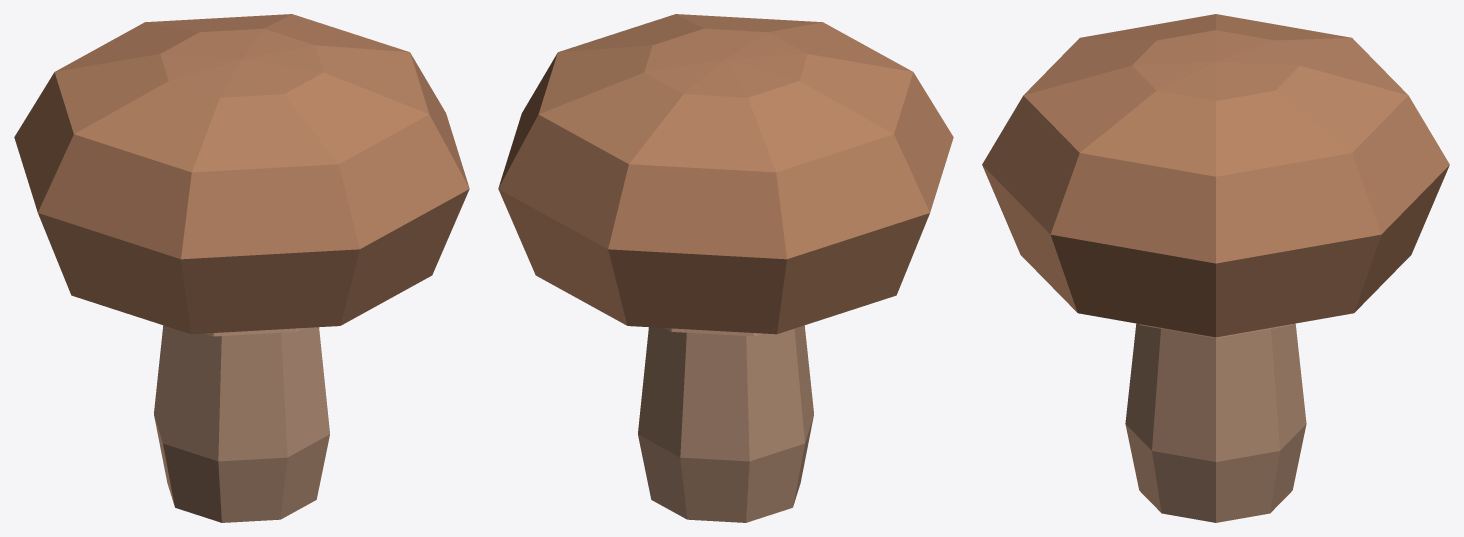
Rendered from Mushroom_08.fbx.
3 renders of one model, left to right at view 1: azimuth 30°, elevation 25°; view 2: azimuth 150°, elevation 25°; view 3: azimuth 270°, elevation 25°, orthographic.
Parts seen in each view (by area): view 1: Mushroom_08; view 2: Mushroom_08; view 3: Mushroom_08.
Boxes of the visible parts, x1,y1,x2,y2 form: Mushroom_08: (14, 14, 469, 522); Mushroom_08: (498, 14, 953, 522); Mushroom_08: (982, 14, 1449, 522).
Bounding box in the file's own units: 65.08 × 65.79 × 65.08.
